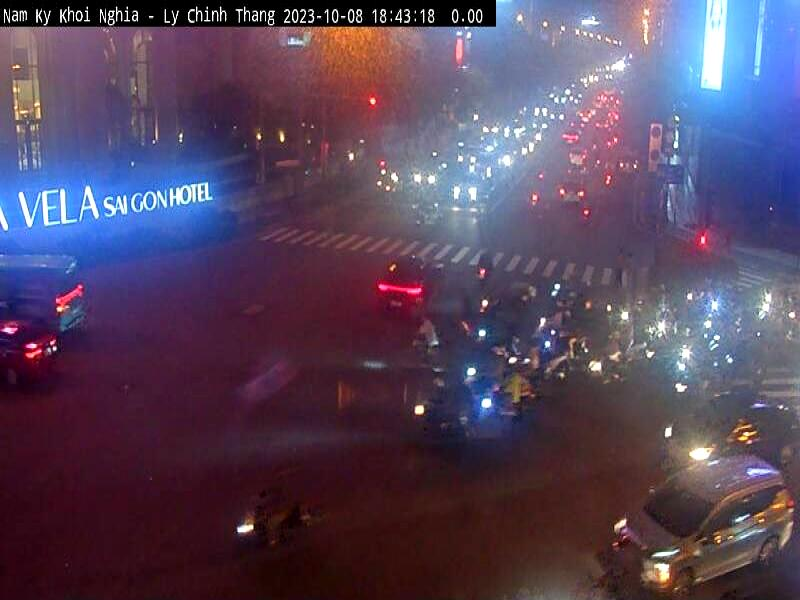car: (612, 456, 793, 600)
